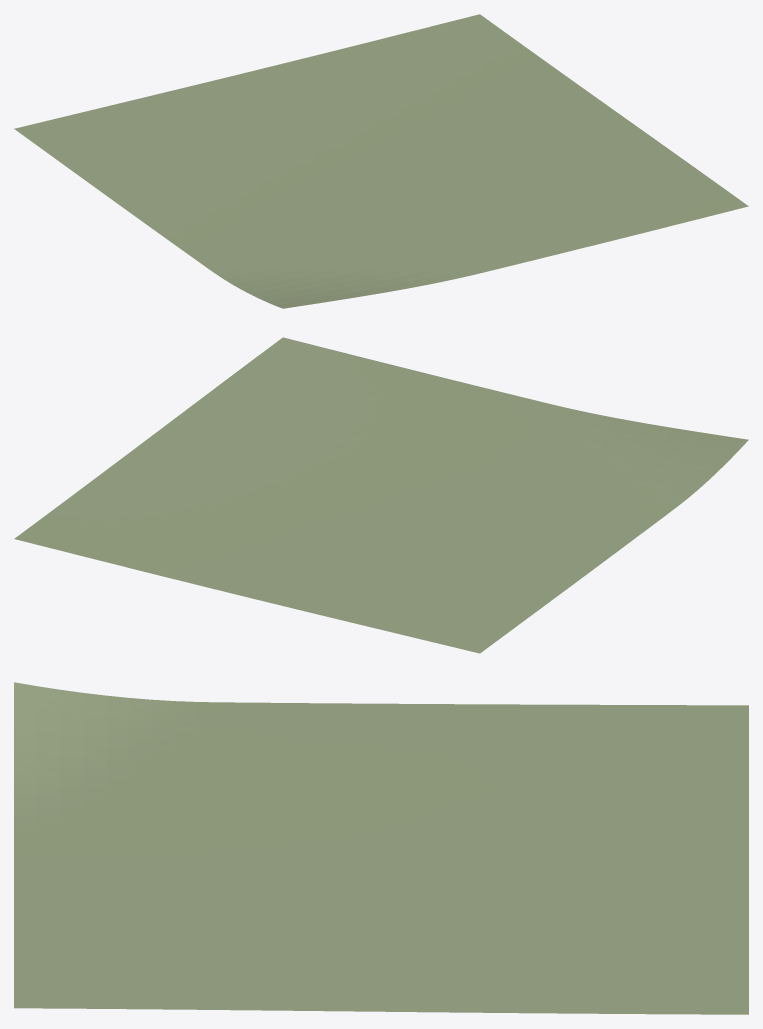
The model's file is desert-21-14.glb.
3 views of the same model, one above another, from view 1: azimuth 30°, elevation 25°; view 2: azimuth 150°, elevation 25°; view 3: azimuth 270°, elevation 25° (orthographic). The views are drawn at different scales.
Visible parts, largest first — view 1: desert-21-14; view 2: desert-21-14; view 3: desert-21-14.
Part boxes in pixels (x1,y1,x2,y2): desert-21-14: (14,14,748,308); desert-21-14: (14,337,748,653); desert-21-14: (14,682,748,1014).
Size of the model in its own units: 512 by 18.31 by 512.
